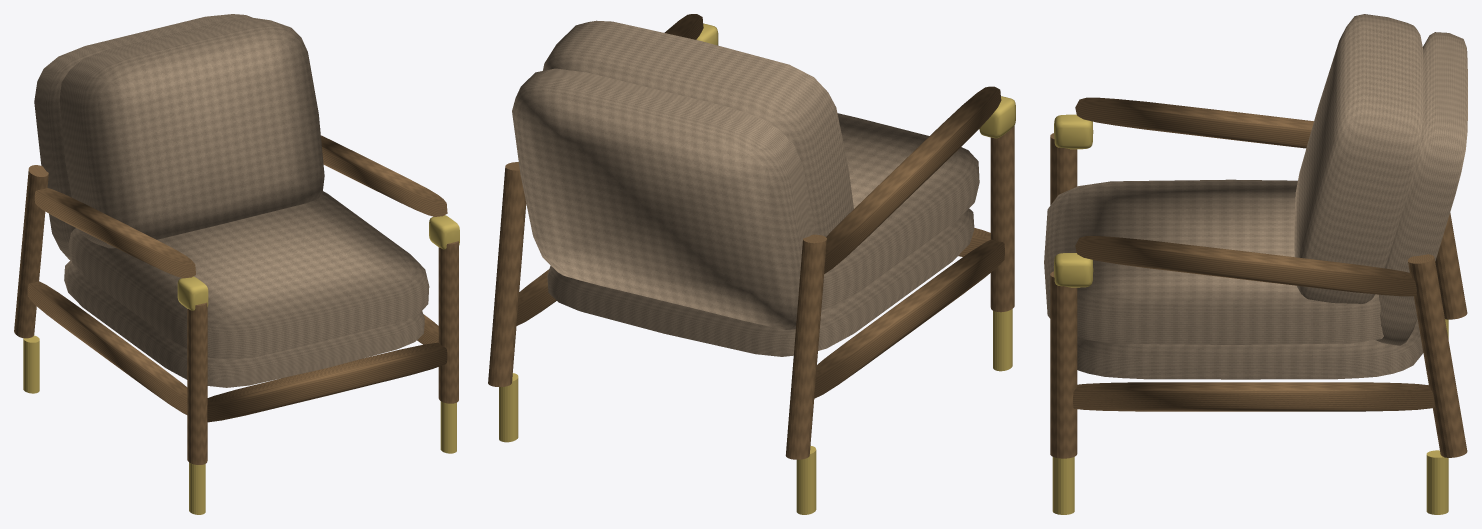
3 views of the same model, side by side, from view 1: azimuth 30°, elevation 25°; view 2: azimuth 150°, elevation 25°; view 3: azimuth 270°, elevation 25° (orthographic). The views are drawn at different scales.
Parts seen in each view (by area): view 1: 4 backrest, 2 seat_cushion, 1 seat_base, 5 front_rail, 3 backrest_frame, 6 left_side_rail, 16 left_armrest, 17 right_armrest, 8 left_front_leg_wood, 12 left_back_leg_wood, 9 right_front_leg_wood, 14 left_back_leg_brass (+4 smaller); view 2: 3 backrest_frame, 4 backrest, 1 seat_base, 2 seat_cushion, 16 left_armrest, 6 left_side_rail, 12 left_back_leg_wood, 13 right_back_leg_wood, 8 left_front_leg_wood, 14 left_back_leg_brass, 15 right_back_leg_brass, 10 left_front_leg_brass (+3 smaller); view 3: 2 seat_cushion, 4 backrest, 3 backrest_frame, 1 seat_base, 7 right_side_rail, 17 right_armrest, 16 left_armrest, 13 right_back_leg_wood, 9 right_front_leg_wood, 12 left_back_leg_wood, 15 right_back_leg_brass, 8 left_front_leg_wood (+3 smaller).
Part boxes in pixels (left/top/right/bottom): 4 backrest: left=59, top=17, right=324, bottom=248; 2 seat_cushion: left=68, top=191, right=429, bottom=359; 1 seat_base: left=64, top=260, right=424, bottom=387; 5 front_rail: left=207, top=342, right=447, bottom=422; 3 backrest_frame: left=34, top=14, right=251, bottom=260; 6 left_side_rail: left=27, top=281, right=187, bottom=414; 16 left_armrest: left=34, top=188, right=195, bottom=278; 17 right_armrest: left=321, top=135, right=447, bottom=216; 8 left_front_leg_wood: left=187, top=302, right=207, bottom=464; 12 left_back_leg_wood: left=14, top=165, right=48, bottom=338; 9 right_front_leg_wood: left=438, top=241, right=458, bottom=403; 14 left_back_leg_brass: left=23, top=335, right=39, bottom=393; 3 backrest_frame: left=512, top=68, right=823, bottom=329; 4 backrest: left=543, top=20, right=853, bottom=236; 1 seat_base: left=547, top=208, right=974, bottom=356; 2 seat_cushion: left=821, top=113, right=979, bottom=310; 16 left_armrest: left=824, top=86, right=1001, bottom=273; 6 left_side_rail: left=814, top=239, right=1004, bottom=398; 12 left_back_leg_wood: left=785, top=234, right=826, bottom=459; 13 right_back_leg_wood: left=488, top=162, right=526, bottom=386; 8 left_front_leg_wood: left=990, top=126, right=1014, bottom=312; 14 left_back_leg_brass: left=796, top=446, right=816, bottom=514; 15 right_back_leg_brass: left=499, top=373, right=518, bottom=442; 10 left_front_leg_brass: left=993, top=309, right=1012, bottom=371; 2 seat_cushion: left=1044, top=179, right=1383, bottom=344; 4 backrest: left=1294, top=14, right=1423, bottom=303; 3 backrest_frame: left=1375, top=32, right=1467, bottom=345; 1 seat_base: left=1077, top=319, right=1423, bottom=379; 7 right_side_rail: left=1073, top=382, right=1434, bottom=411; 17 right_armrest: left=1075, top=236, right=1416, bottom=296; 16 left_armrest: left=1075, top=97, right=1313, bottom=148; 13 right_back_leg_wood: left=1407, top=254, right=1467, bottom=457; 9 right_front_leg_wood: left=1050, top=271, right=1077, bottom=458; 12 left_back_leg_wood: left=1435, top=213, right=1467, bottom=319; 15 right_back_leg_brass: left=1426, top=450, right=1448, bottom=514; 8 left_front_leg_wood: left=1050, top=133, right=1077, bottom=205.
Size of the model in its own units: 0.7163 by 0.8661 by 0.8661.
Materials: 3 (2 with a texture image).
